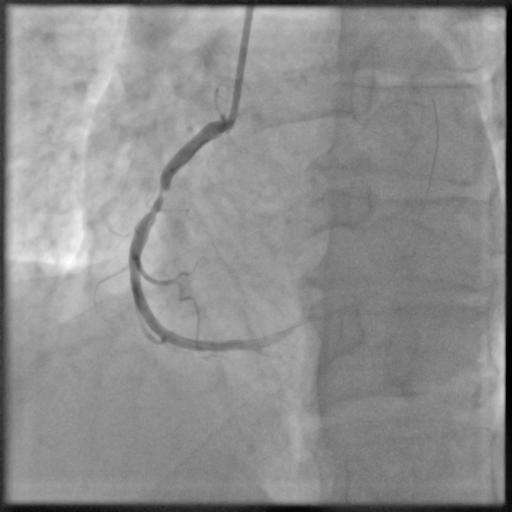Stenosis: (148, 179, 169, 211)
